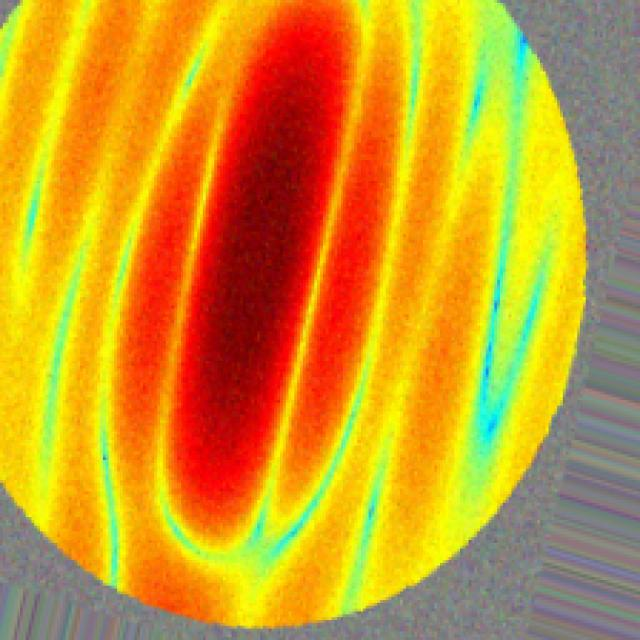Spiral_bacteria: (0, 0, 588, 631)
